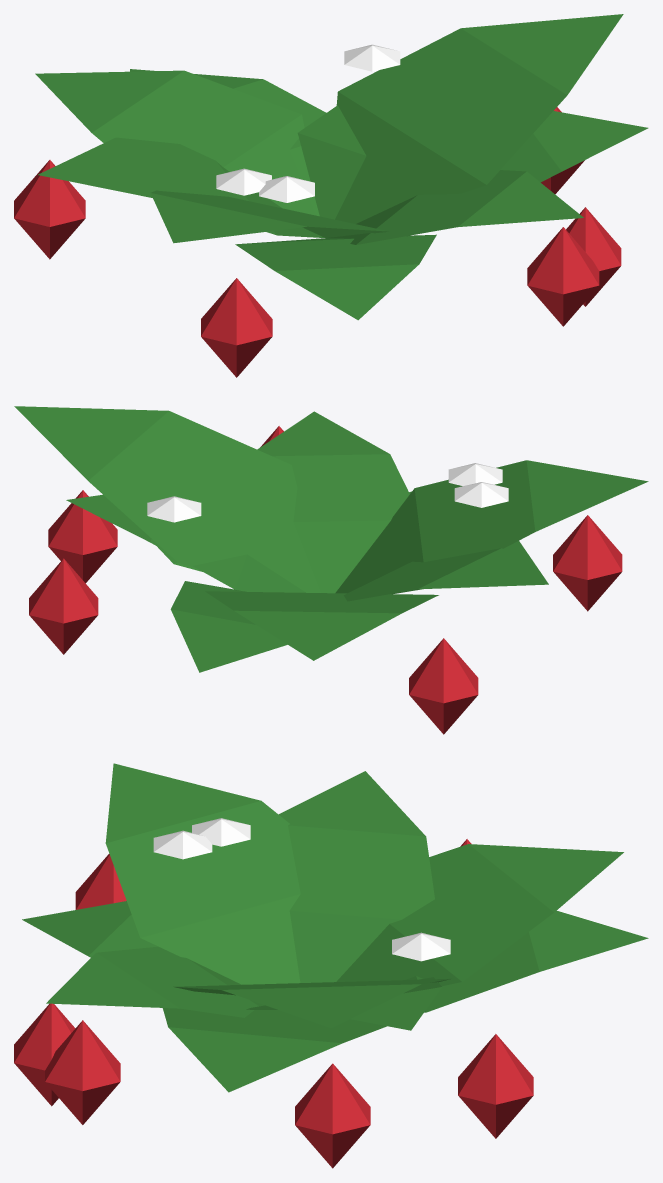
Rendered from strawberry.glb.
3 views of the same model, one above another, from view 1: azimuth 30°, elevation 25°; view 2: azimuth 150°, elevation 25°; view 3: azimuth 270°, elevation 25° (orthographic). The views are drawn at different scales.
Parts seen in each view (by area): view 1: strawberry; view 2: strawberry; view 3: strawberry.
Part boxes in pixels (x1,y1,x2,y2): strawberry: (14, 14, 648, 377); strawberry: (14, 406, 648, 734); strawberry: (14, 763, 648, 1168).
Bounding box in the file's own units: 0.2859 × 0.0808 × 0.262.
